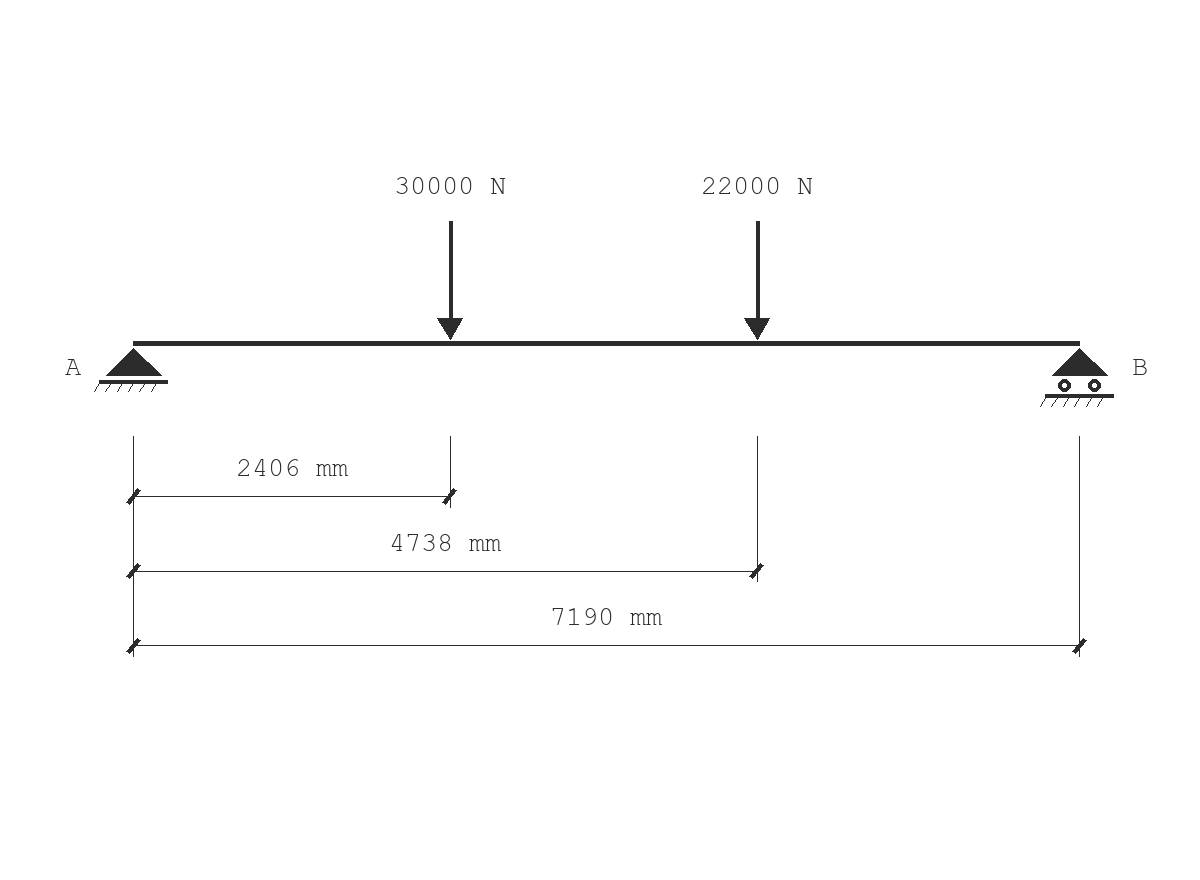pin_support: (94, 348, 168, 392)
point_load: (437, 221, 463, 340), (744, 221, 770, 340)
roller_support: (1040, 348, 1114, 407)
